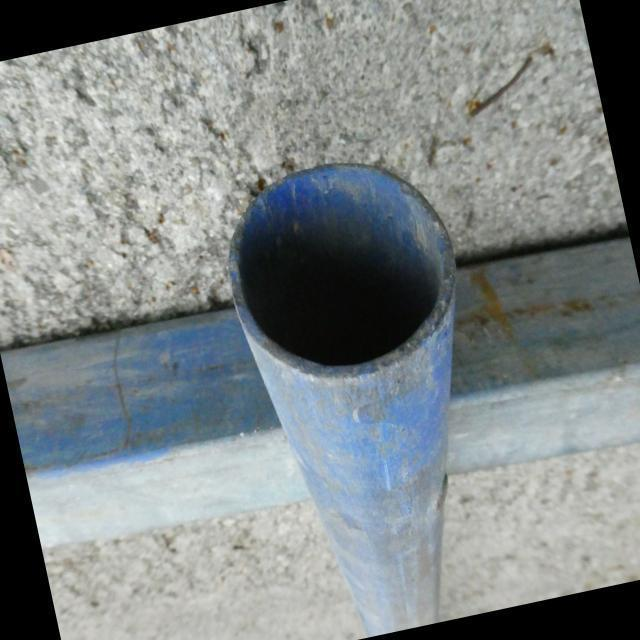pipe: (227, 161, 457, 371)
